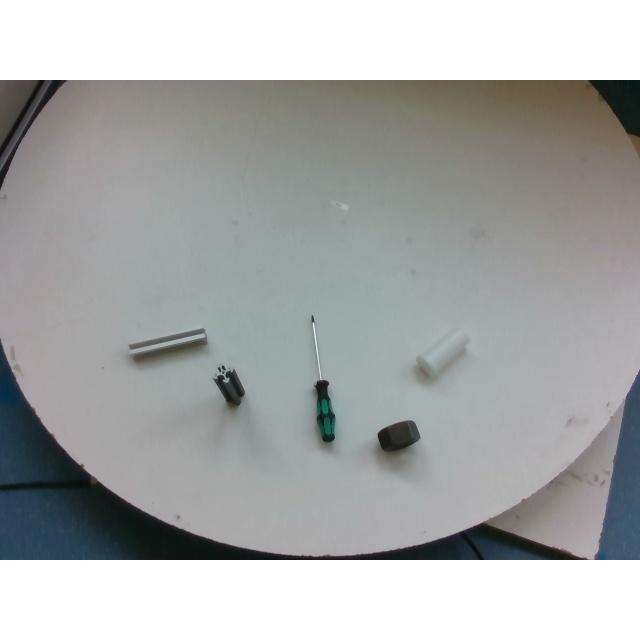F20_20_B: (214, 365, 244, 405)
F20_20_G: (128, 328, 206, 357)
M30: (378, 421, 420, 452)
Screwdriver: (310, 314, 338, 442)
Spacer: (417, 329, 469, 379)
